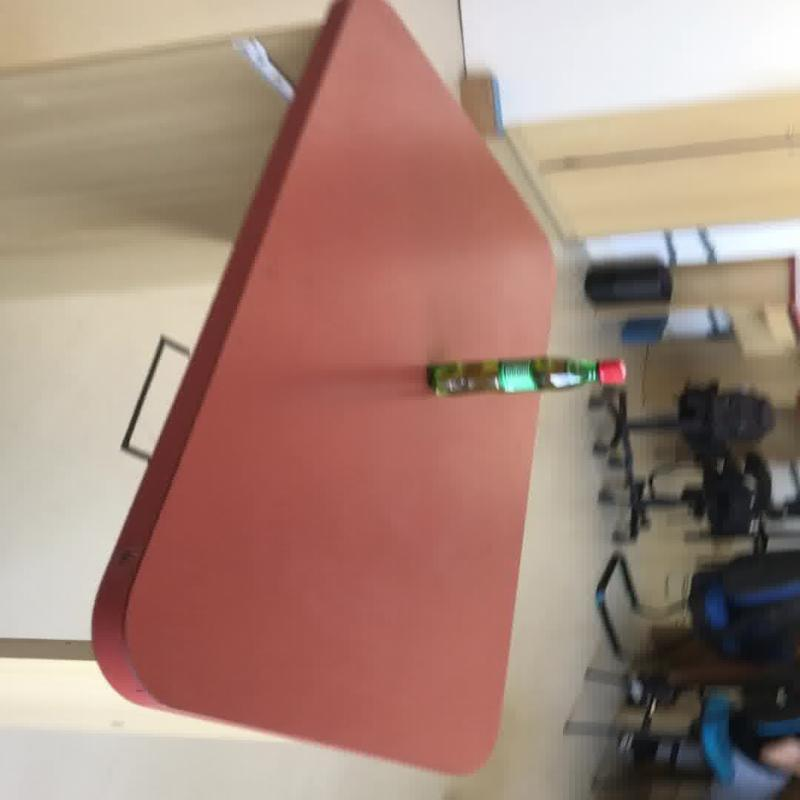guarana: (90, 0, 612, 775), (423, 354, 626, 397)
